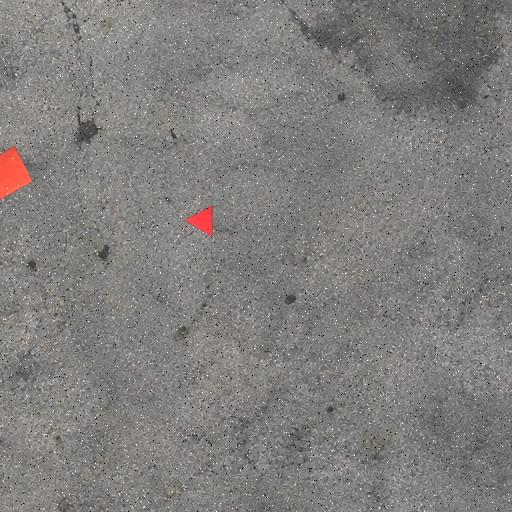RED_SQUARE: (0, 145, 34, 200)
